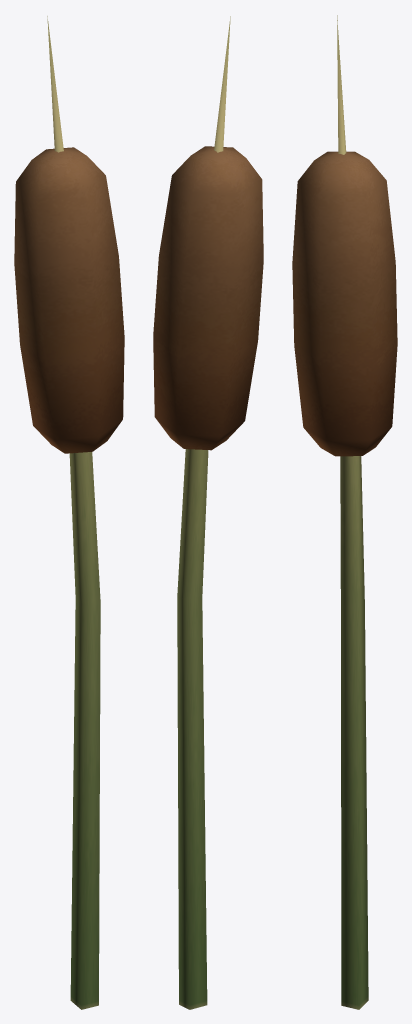
The model's file is Cattail_1.fbx.
3 views of the same model, side by side, from view 1: azimuth 30°, elevation 25°; view 2: azimuth 210°, elevation 25°; view 3: azimuth 330°, elevation 25° (orthographic).
Parts seen in each view (by area): view 1: Sphere.025, Cube.083; view 2: Sphere.025, Cube.083; view 3: Sphere.025, Cube.083.
Part boxes in pixels (<box>): Sphere.025: <box>14,147,124,453</box>; Cube.083: <box>47,16,100,1009</box>; Sphere.025: <box>153,146,263,450</box>; Cube.083: <box>177,16,230,1009</box>; Sphere.025: <box>292,151,397,456</box>; Cube.083: <box>337,15,368,1009</box>.
Size of the model in its own units: 4.98 by 56.34 by 5.34.
